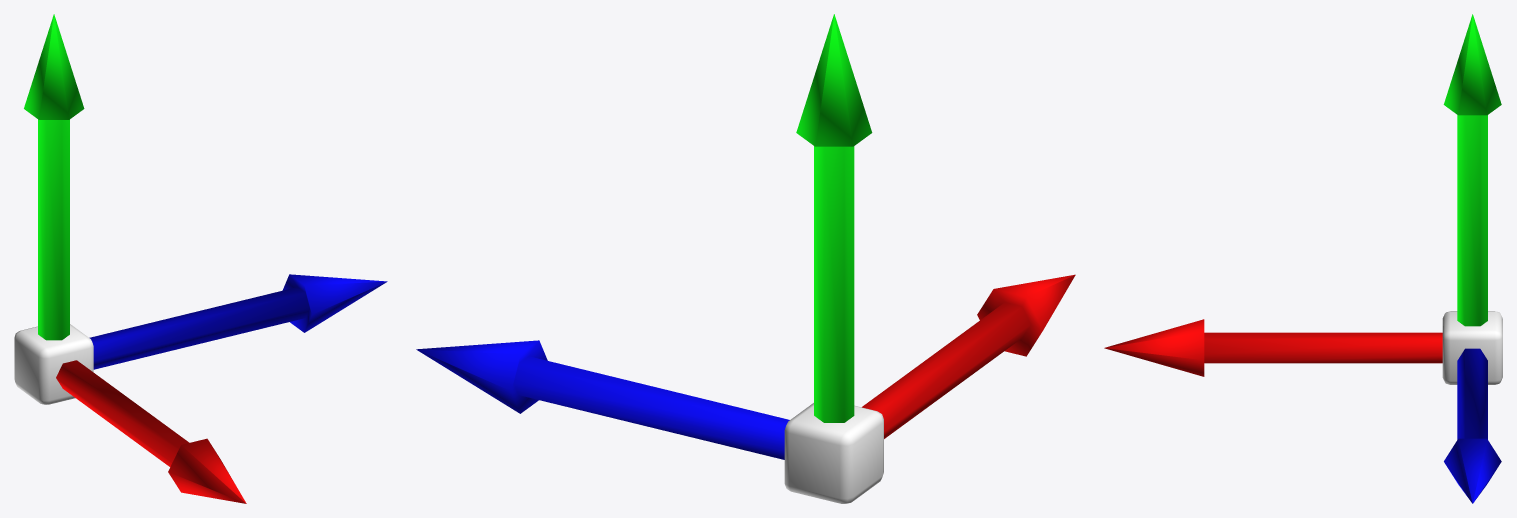
Rendered from MoveArrows.fbx.
3 renders of one model, left to right at view 1: azimuth 30°, elevation 25°; view 2: azimuth 150°, elevation 25°; view 3: azimuth 270°, elevation 25°, orthographic. The views are drawn at different scales.
Visible parts, largest first — view 1: Arrow1, Arrow2, Arrow3, Box; view 2: Arrow1, Arrow2, Arrow3, Box; view 3: Arrow3, Arrow1, Arrow2, Box.
Boxes of the visible parts, left/top/right/bottom form: Arrow1: left=24, top=14, right=84, bottom=340; Arrow2: left=89, top=274, right=387, bottom=369; Arrow3: left=56, top=360, right=246, bottom=503; Box: left=14, top=324, right=93, bottom=404; Arrow1: left=796, top=14, right=872, bottom=422; Arrow2: left=416, top=340, right=789, bottom=459; Arrow3: left=862, top=274, right=1075, bottom=438; Box: left=784, top=403, right=883, bottom=503; Arrow3: left=1104, top=319, right=1442, bottom=376; Arrow1: left=1443, top=14, right=1501, bottom=326; Arrow2: left=1444, top=348, right=1501, bottom=503; Box: left=1442, top=311, right=1502, bottom=384.
Bounding box in the file's own units: 259 × 259 × 259.
